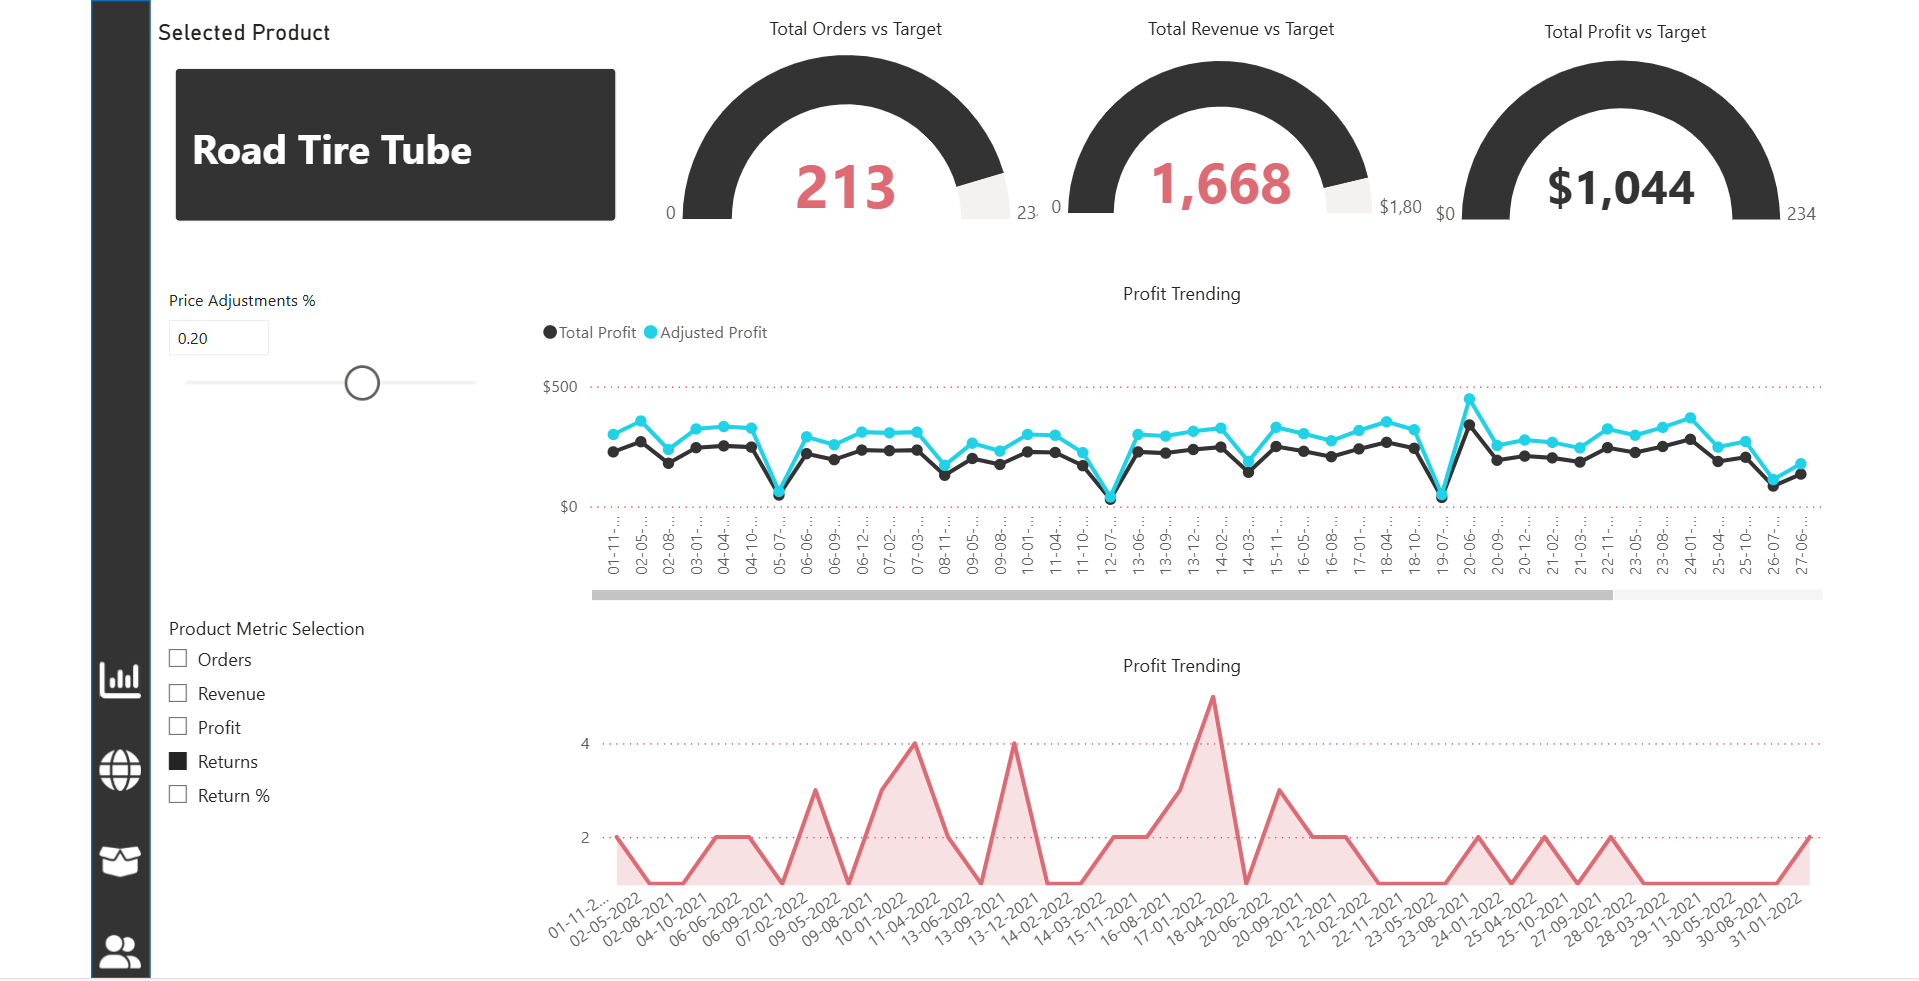

Layout of this report page (visuals, bound fields, positions):
{"tool":"powerbi","page":{"name":"Produt Detail","canvas":[1280,720],"ordinal":2},"visuals":[{"type":"shape","box":[0,0,43.8,720.3],"z":0},{"type":"gauge","title":"Total Orders vs Target","fields":{"MaxValue":["Measure Table.Order Target"],"Y":["Measure Table.Total Orders"]},"box":[413.2,11.2,300,166],"z":1000},{"type":"actionButton","box":[2.4,548.1,44.3,38.6],"z":1000,"group":"g1"},{"type":"gauge","title":"Total Revenue vs Target","fields":{"MaxValue":["Measure Table.Target Revenue"],"Y":["Measure Table.Total Revenue"]},"box":[696.7,11.2,300,166],"z":2000},{"type":"actionButton","box":[2.4,681.4,44.3,38.6],"z":2000,"group":"g1"},{"type":"gauge","title":"Total Profit vs Target","fields":{"MaxValue":["Measure Table.Profit Target"],"Y":["Measure Table.Total Profit"]},"box":[979.3,12.9,300.2,166],"z":3000},{"type":"actionButton","box":[2.4,481.4,44.3,38.6],"z":3000,"group":"g1"},{"type":"areaChart","title":"Profit Trending","fields":{"Category":["Calendar Lookup.Date Hierarchy.Start of Year","Calendar Lookup.Date Hierarchy.Start of Month","Calendar Lookup.Date Hierarchy.Start of Week","Calendar Lookup.Date Hierarchy.Date"],"Y":["Measure Table.Total Profit","Measure Table.Adjusted Profit"]},"box":[327.1,207,952.9,240],"z":4000},{"type":"actionButton","box":[2.4,614.7,44.3,38.6],"z":4000,"group":"g1"},{"type":"areaChart","title":"Profit Trending","fields":{"Category":["Calendar Lookup.Date Hierarchy.Start of Year","Calendar Lookup.Date Hierarchy.Start of Month","Calendar Lookup.Date Hierarchy.Start of Week","Calendar Lookup.Date Hierarchy.Date"],"Y":["Measure Table.Total Returns"]},"box":[327.1,480,952.9,240],"z":5000},{"type":"cardVisual","title":"Selected Product","fields":{"Data":["Min(Product Lookup.ProductName)"]},"box":[43.8,12.9,360.8,167.5],"z":6000},{"type":"group","id":"g1","title":"Navigataion Buttons","box":[2.4,481.4,44.3,238.6],"z":7000},{"type":"slicer","fields":{"Values":["Price Adjustments %.Price Adjustments %"]},"box":[44.3,207.1,261.4,128.6],"z":8000},{"type":"slicer","fields":{"Values":["Product Metric Selection.Product Metric Selection"]},"box":[44.3,447.1,234.3,167.1],"z":9000}]}

Visuals, with their boxes on the page's 1280x720 design canvas (x1, y1, x2, y2). These are canvas units, not pixel positions in the 1919x981 screenshot, which may show the page scaled, cropped or inside an application window:
shape: [left=0, top=0, right=44, bottom=720]
"Total Orders vs Target" gauge: [left=413, top=11, right=713, bottom=177]
actionButton: [left=2, top=548, right=47, bottom=587]
"Total Revenue vs Target" gauge: [left=697, top=11, right=997, bottom=177]
actionButton: [left=2, top=681, right=47, bottom=720]
"Total Profit vs Target" gauge: [left=979, top=13, right=1280, bottom=179]
actionButton: [left=2, top=481, right=47, bottom=520]
"Profit Trending" areaChart: [left=327, top=207, right=1280, bottom=447]
actionButton: [left=2, top=615, right=47, bottom=653]
"Profit Trending" areaChart: [left=327, top=480, right=1280, bottom=720]
"Selected Product" cardVisual: [left=44, top=13, right=405, bottom=180]
"Navigataion Buttons" group: [left=2, top=481, right=47, bottom=720]
slicer - Price Adjustments %.Price Adjustments %: [left=44, top=207, right=306, bottom=336]
slicer - Product Metric Selection.Product Metric Selection: [left=44, top=447, right=279, bottom=614]
